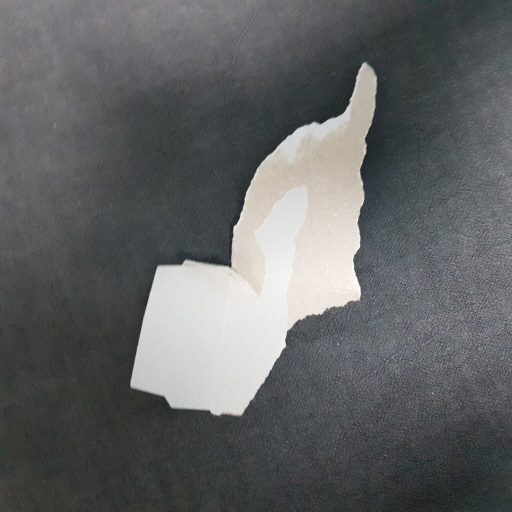Paper_3: (127, 62, 384, 441)
